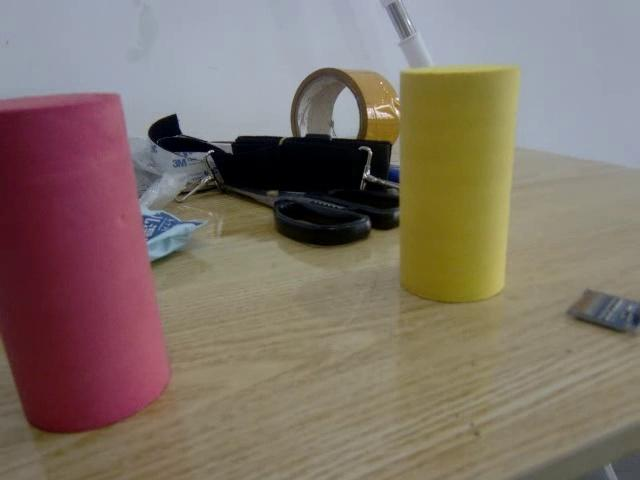red_cylinder: (0, 92, 168, 434)
yellow_cylinder: (399, 63, 520, 303)
